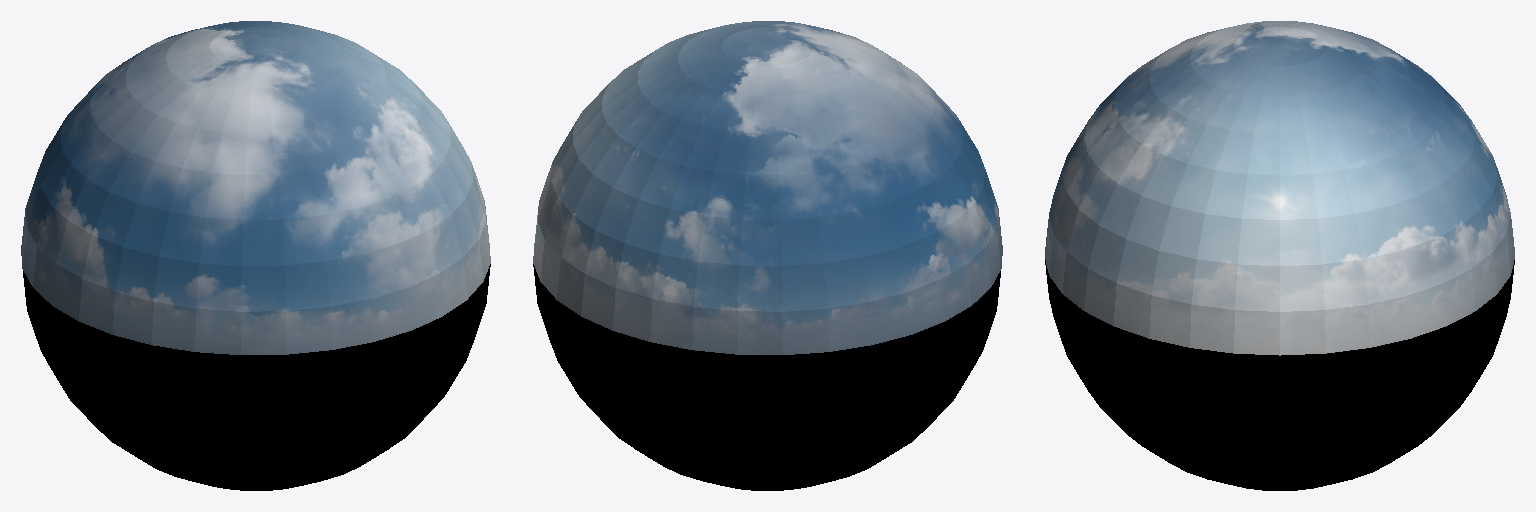
The picture shows the model from 3 angles: view 1: azimuth 30°, elevation 25°; view 2: azimuth 150°, elevation 25°; view 3: azimuth 270°, elevation 25°; orthographic projection.
Visible parts, largest first — view 1: Sphere; view 2: Sphere; view 3: Sphere.
Boxes of the visible parts, x1=… form: Sphere: x1=21, y1=21, x2=490, y2=490; Sphere: x1=533, y1=21, x2=1002, y2=490; Sphere: x1=1045, y1=21, x2=1514, y2=490.
Bounding box in the file's own units: 2 × 2 × 2.
1 materials, 1 textured.